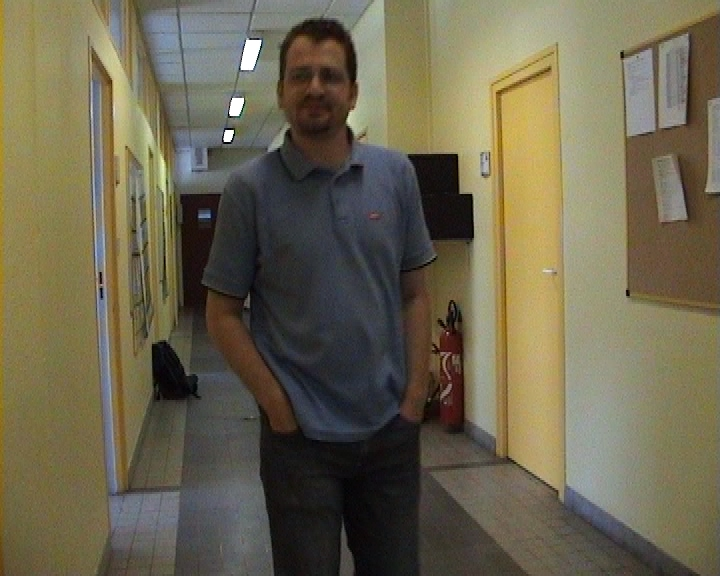leave bag unattended: (119, 321, 240, 447)
